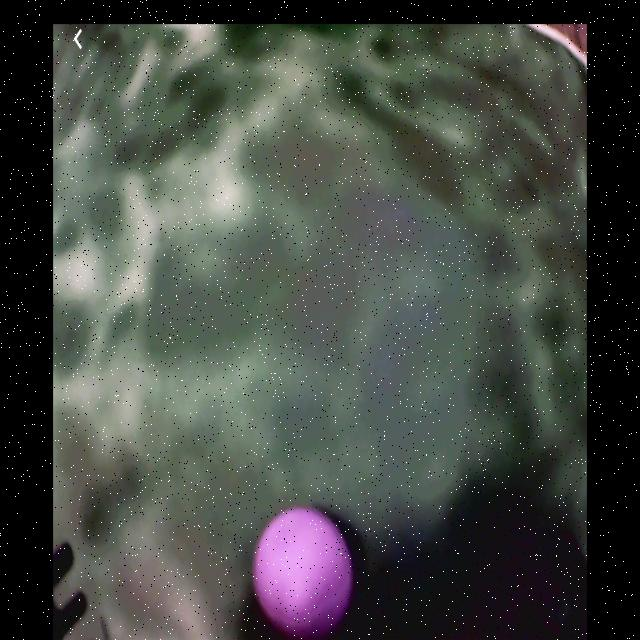ball: (253, 509, 356, 637)
